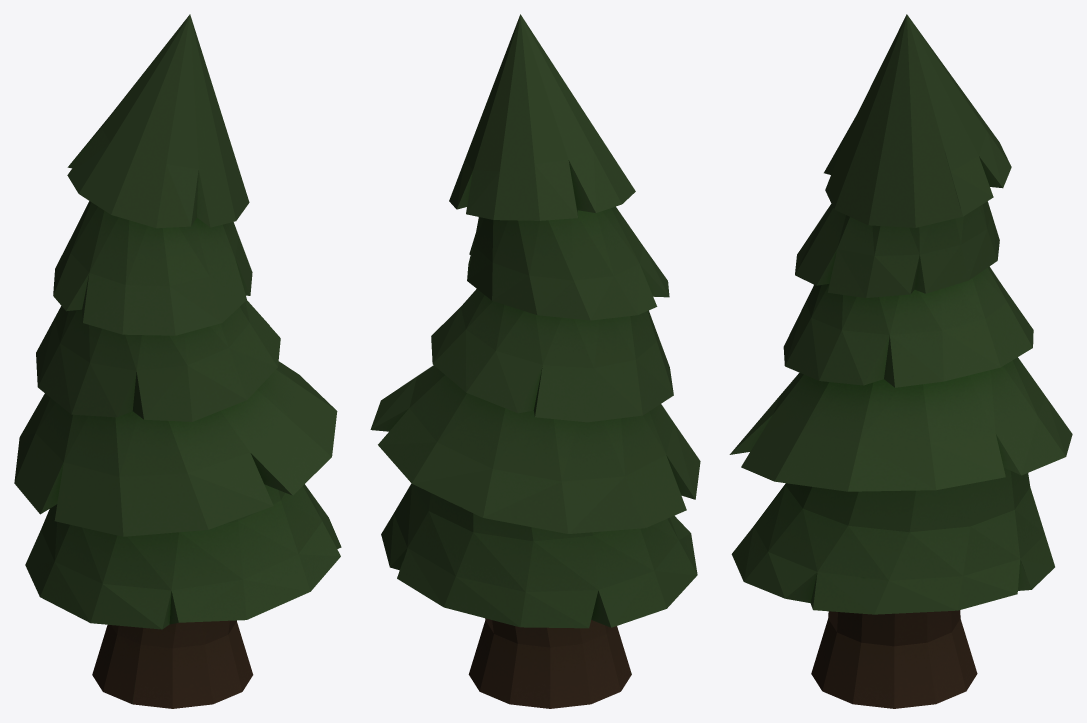
Rendered from tree1.obj.
The picture shows the model from 3 angles, left to right: view 1: azimuth 30°, elevation 25°; view 2: azimuth 150°, elevation 25°; view 3: azimuth 270°, elevation 25°; orthographic projection. The views are drawn at different scales.
Parts seen in each view (by area): view 1: Tree1.1_Cylinder.001_Tree1.1_Cylinder.001_Leaves.001, Tree1.1_Cylinder.001_Tree1.1_Cylinder.001_Trunk.001; view 2: Tree1.1_Cylinder.001_Tree1.1_Cylinder.001_Leaves.001, Tree1.1_Cylinder.001_Tree1.1_Cylinder.001_Trunk.001; view 3: Tree1.1_Cylinder.001_Tree1.1_Cylinder.001_Leaves.001, Tree1.1_Cylinder.001_Tree1.1_Cylinder.001_Trunk.001.
Part boxes in pixels (x1,y1,x2,y2): Tree1.1_Cylinder.001_Tree1.1_Cylinder.001_Leaves.001: (14,14,341,629); Tree1.1_Cylinder.001_Tree1.1_Cylinder.001_Trunk.001: (92,620,253,708); Tree1.1_Cylinder.001_Tree1.1_Cylinder.001_Leaves.001: (370,14,700,628); Tree1.1_Cylinder.001_Tree1.1_Cylinder.001_Trunk.001: (468,618,631,708); Tree1.1_Cylinder.001_Tree1.1_Cylinder.001_Leaves.001: (729,14,1072,614); Tree1.1_Cylinder.001_Tree1.1_Cylinder.001_Trunk.001: (811,610,977,708).
Bounding box in the file's own units: 4.02 × 8.91 × 4.13.
2 materials, 2 textured.
